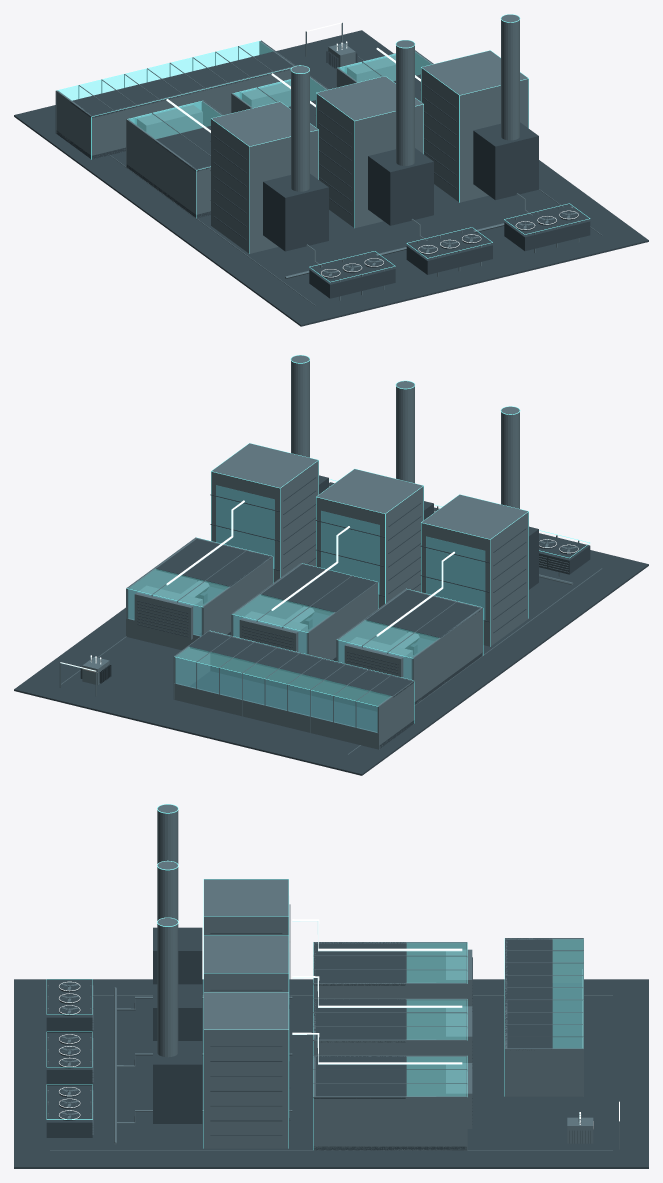
The model's file is natural_gas_plant.glb.
The picture shows the model from 3 angles, top to bottom: view 1: azimuth 30°, elevation 25°; view 2: azimuth 150°, elevation 25°; view 3: azimuth 270°, elevation 25°; orthographic projection. The views are drawn at different scales.
Parts seen in each view (by area): view 1: natural_gas_plant_graphite, natural_gas_plant_graphite_light, natural_gas_plant_glass, natural_gas_plant_edge, natural_gas_plant_white; view 2: natural_gas_plant_graphite_light, natural_gas_plant_graphite, natural_gas_plant_glass, natural_gas_plant_edge, natural_gas_plant_white; view 3: natural_gas_plant_graphite, natural_gas_plant_graphite_light, natural_gas_plant_glass, natural_gas_plant_white, natural_gas_plant_edge.
Boxes of the visible parts, box(x1,y1,x2,y2) form: natural_gas_plant_graphite: box(14, 30, 648, 326); natural_gas_plant_graphite_light: box(55, 14, 602, 305); natural_gas_plant_glass: box(58, 41, 431, 138); natural_gas_plant_edge: box(56, 14, 590, 282); natural_gas_plant_white: box(166, 22, 578, 277); natural_gas_plant_graphite_light: box(59, 355, 602, 754); natural_gas_plant_graphite: box(14, 475, 648, 775); natural_gas_plant_glass: box(128, 485, 484, 732); natural_gas_plant_edge: box(126, 355, 589, 723); natural_gas_plant_white: box(60, 486, 578, 671); natural_gas_plant_graphite: box(14, 904, 648, 1168); natural_gas_plant_graphite_light: box(47, 804, 619, 1150); natural_gas_plant_glass: box(289, 939, 582, 1096); natural_gas_plant_white: box(59, 919, 619, 1124); natural_gas_plant_edge: box(46, 804, 583, 1149).
Bounding box in the file's own units: 136 × 70.69 × 194.
